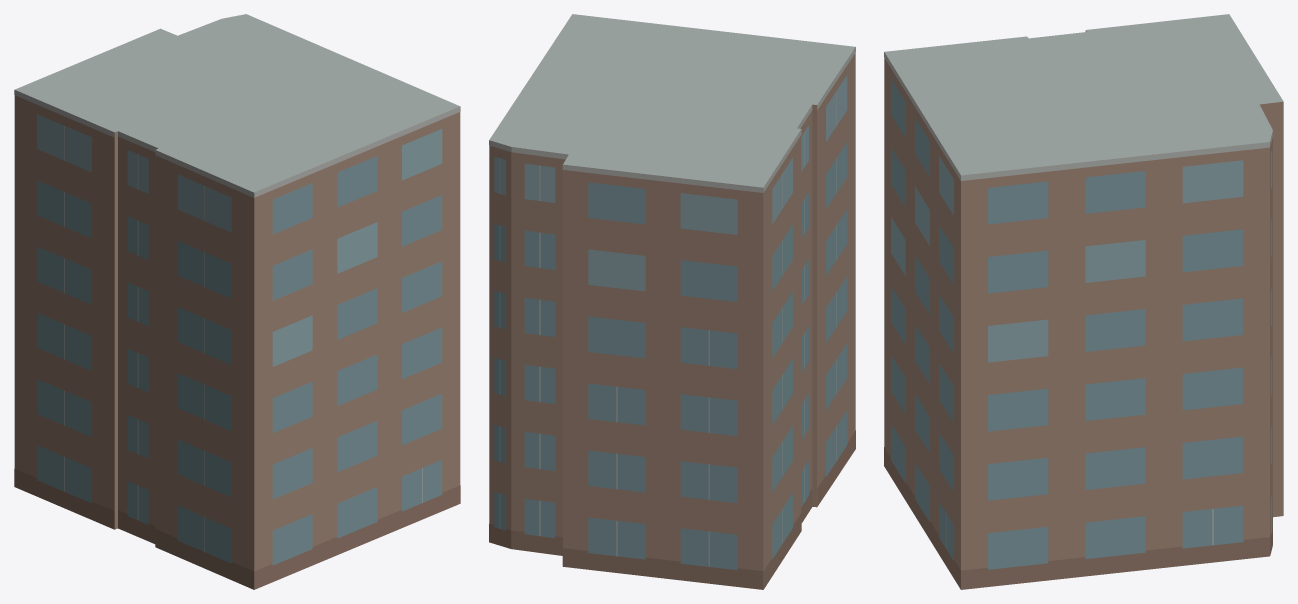
The model's file is survey-upis-32702791.glb.
3 renders of one model, left to right at view 1: azimuth 30°, elevation 25°; view 2: azimuth 150°, elevation 25°; view 3: azimuth 270°, elevation 25°, orthographic. The views are drawn at different scales.
Parts seen in each view (by area): view 1: survey-upis-32702791.tmp; view 2: survey-upis-32702791.tmp; view 3: survey-upis-32702791.tmp.
Boxes of the visible parts, x1,y1,x2,y2 form: survey-upis-32702791.tmp: [14, 14, 460, 589]; survey-upis-32702791.tmp: [489, 14, 855, 589]; survey-upis-32702791.tmp: [884, 14, 1283, 589].
Bounding box in the file's own units: 15.31 × 18.3 × 16.
